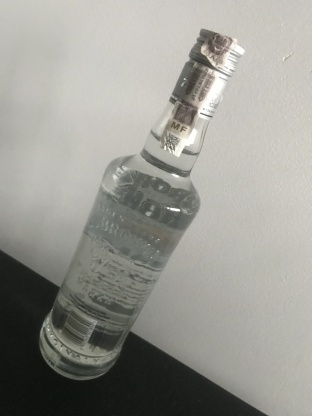nakretka: (167, 25, 246, 122)
